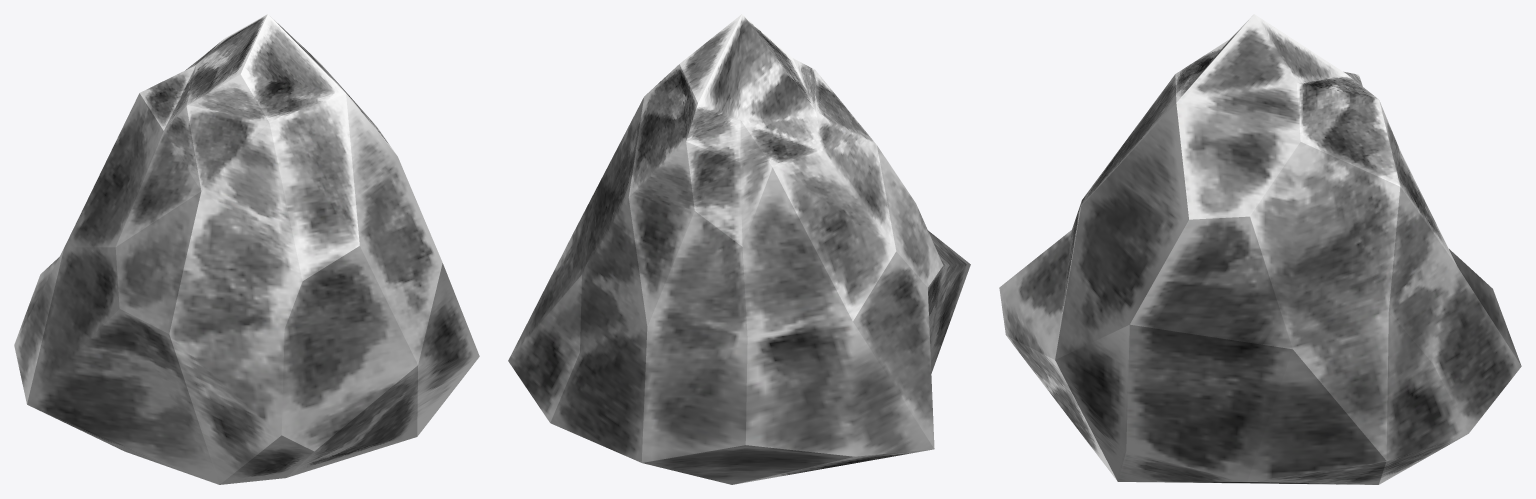
File: eff_Rock05.fbx
3 renders of one model, left to right at view 1: azimuth 30°, elevation 25°; view 2: azimuth 150°, elevation 25°; view 3: azimuth 270°, elevation 25°, orthographic. The views are drawn at different scales.
Visible parts, largest first — view 1: eff_Rock05_msh; view 2: eff_Rock05_msh; view 3: eff_Rock05_msh.
Boxes of the visible parts, box(x1,y1,x2,y2) form: eff_Rock05_msh: box(14, 14, 479, 484); eff_Rock05_msh: box(508, 14, 970, 484); eff_Rock05_msh: box(999, 14, 1521, 484).
Bounding box in the file's own units: 1.54 × 1.5 × 1.67.
